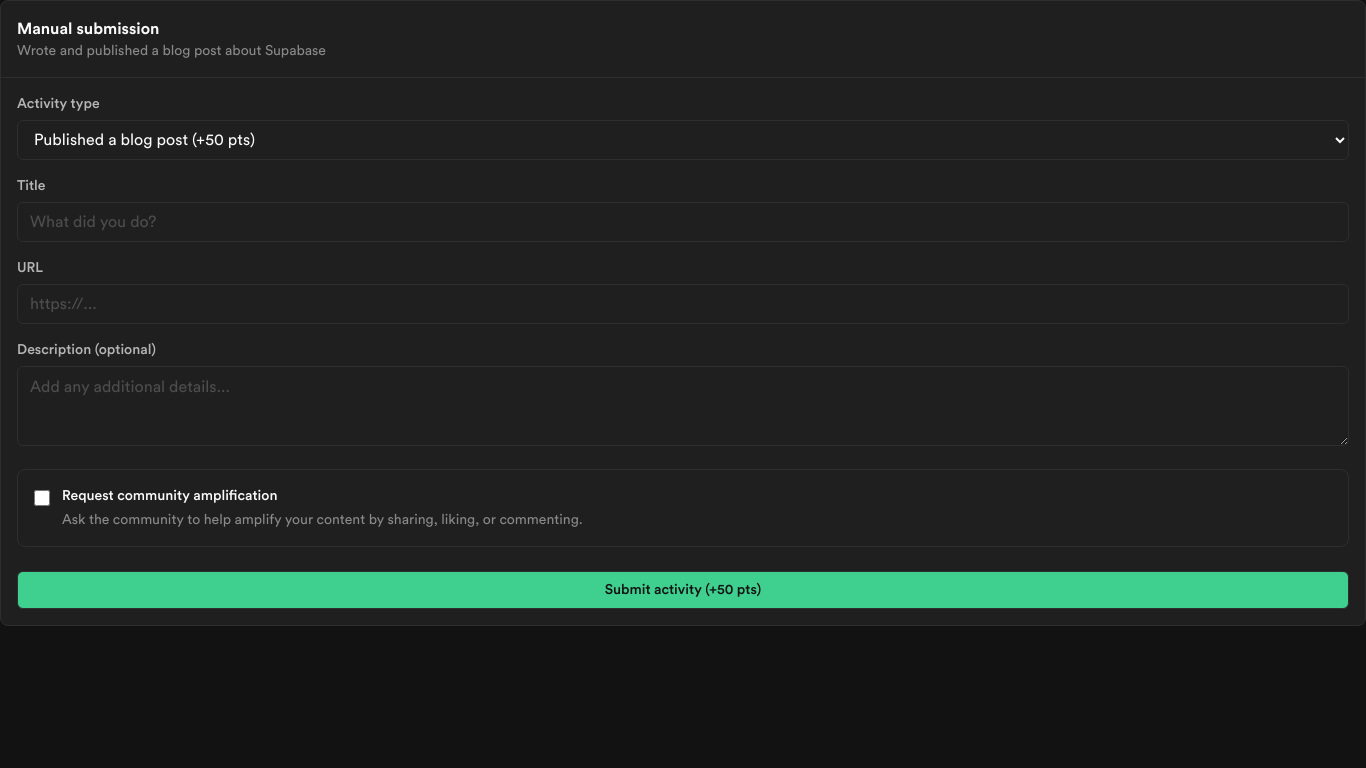
Test case: ActivityForm component › when filling out the form › should show amplification URL input when checkbox is checked
Click the checkbox labelled "Request community amplification" at [42, 498], box [34, 490, 50, 506]
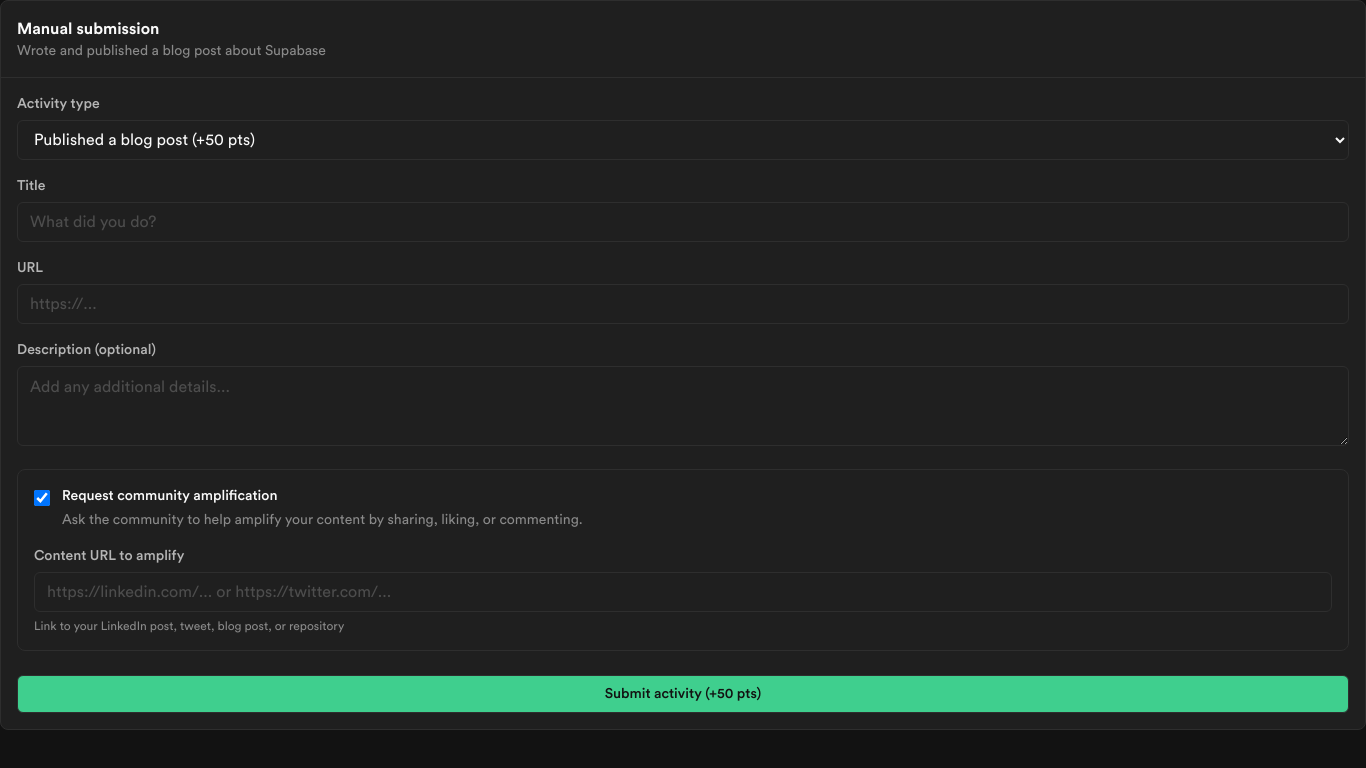
Check: the field labelled "Content URL to amplify" is shown, box [34, 572, 1332, 612]
